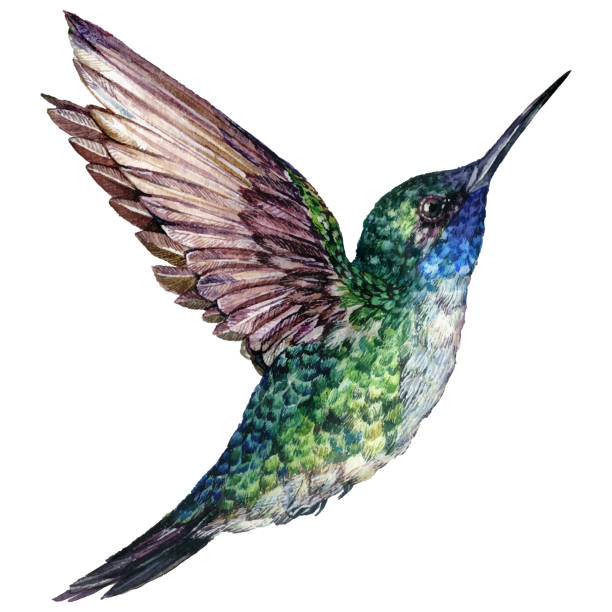Bird: (37, 4, 570, 605)
